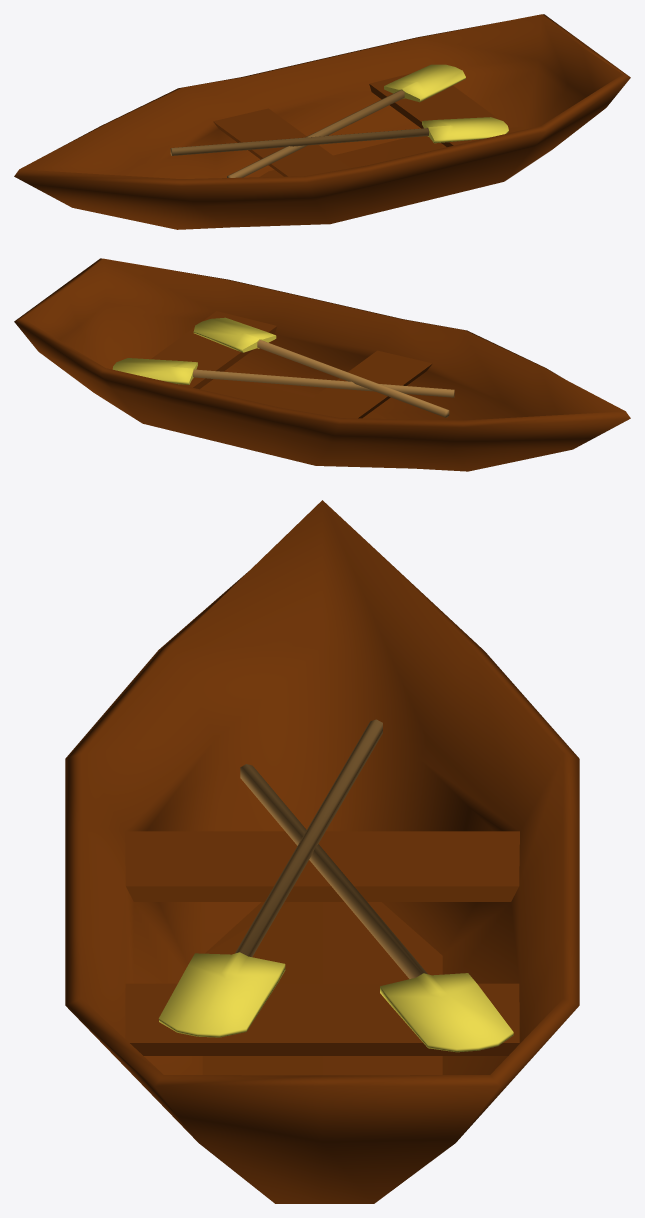
File: Roeiboot.fbx
3 views of the same model, one above another, from view 1: azimuth 30°, elevation 25°; view 2: azimuth 150°, elevation 25°; view 3: azimuth 270°, elevation 25° (orthographic). The views are drawn at different scales.
Visible parts, largest first — view 1: Cube.410; view 2: Cube.410; view 3: Cube.410.
Part boxes in pixels (box(x1,y1,x2,y2)): Cube.410: box(14, 14, 630, 229); Cube.410: box(14, 258, 630, 471); Cube.410: box(65, 500, 579, 1203).
Size of the model in its own units: 745 by 123 by 289.
